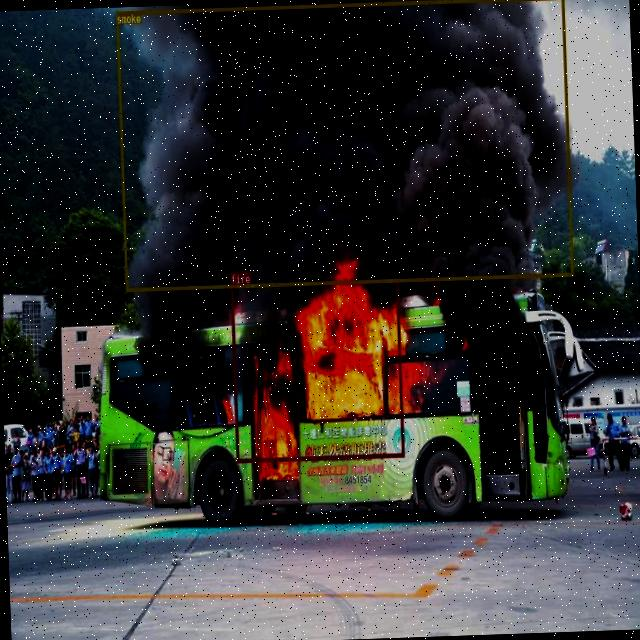fire: (230, 278, 403, 462)
smoke: (115, 0, 572, 290)
